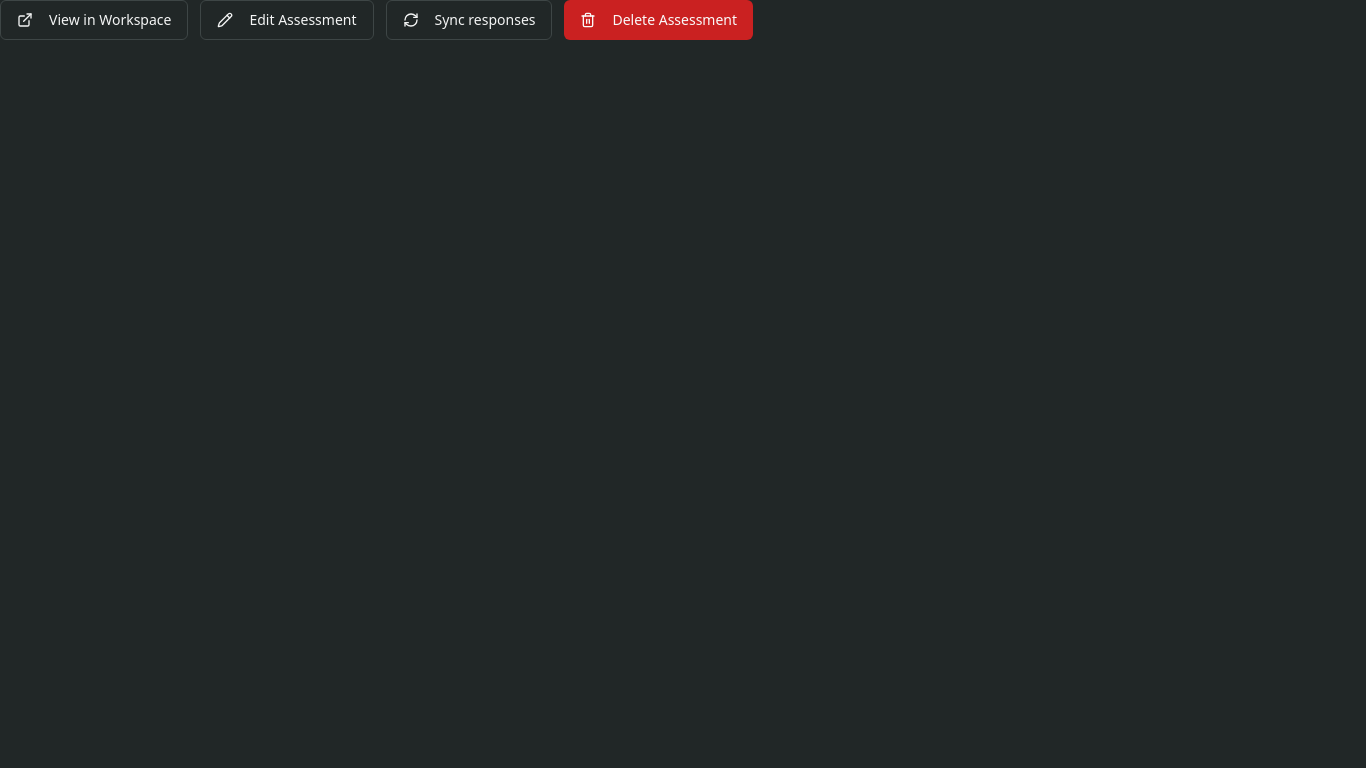
Test: BackofficeAssessmentActions › should confirm before calling onSyncResponses
Later steps or results of the test are not shown.
Click the button "Sync responses": coordinates (469, 20) 386,0 -> 552,40
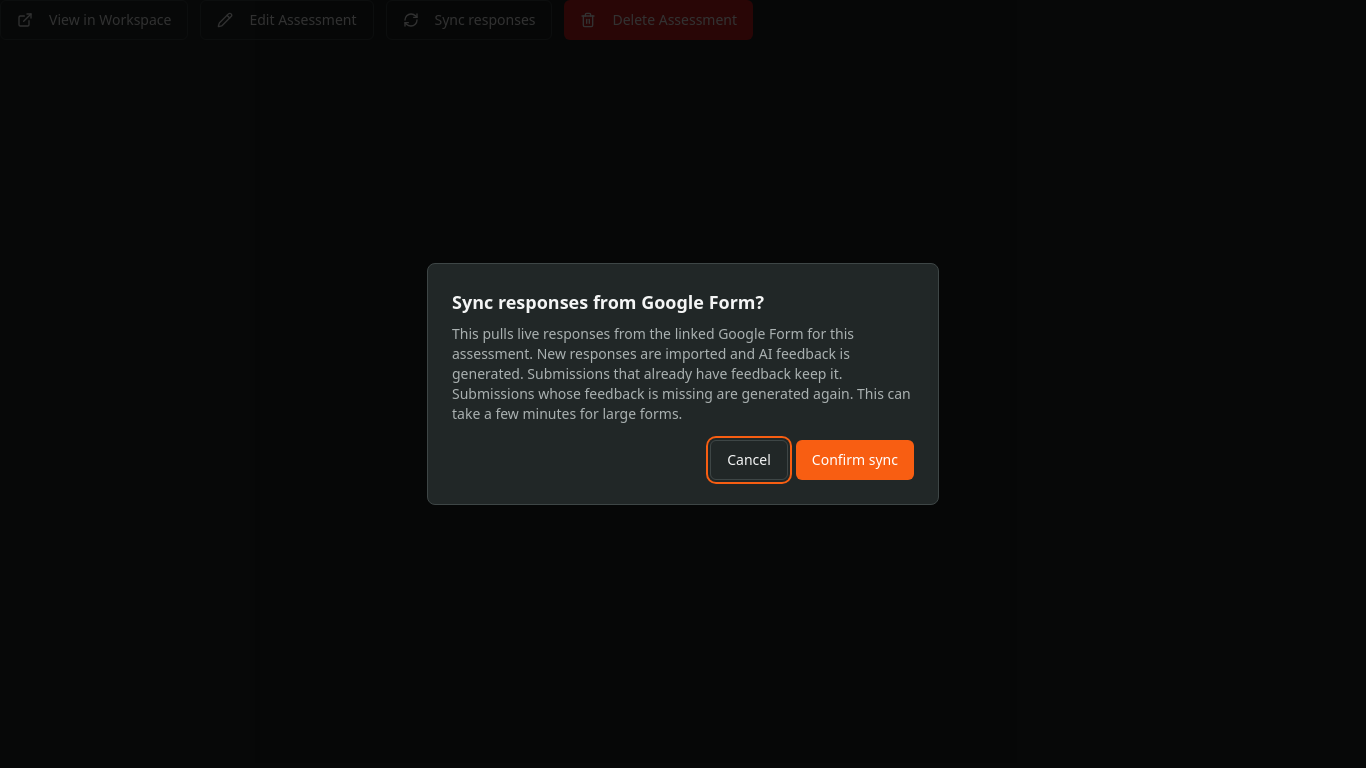
Expected: the heading "Sync responses from Google Form?" is shown, 452,290 -> 764,314
